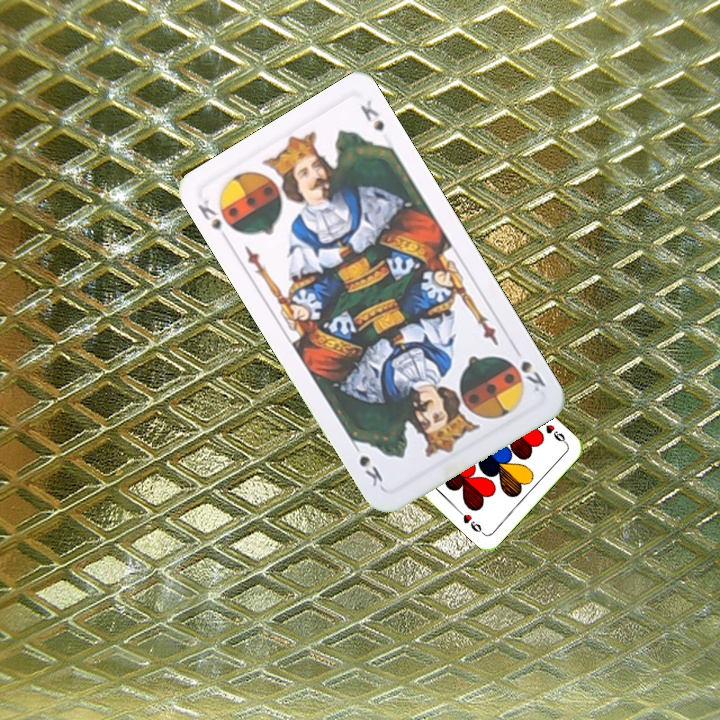H9: (537, 416, 570, 447)
SK: (193, 195, 239, 245), (509, 342, 548, 395)
